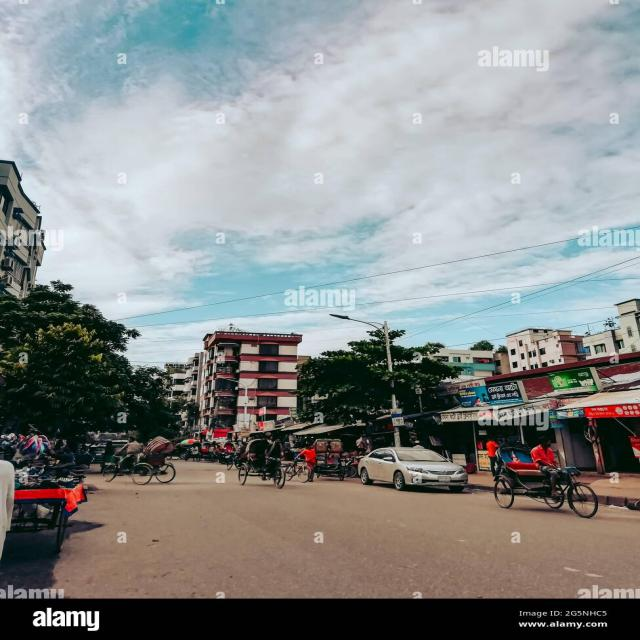car: (360, 444, 466, 491)
rickshaw: (496, 441, 596, 514), (108, 436, 188, 480), (245, 440, 291, 485)
